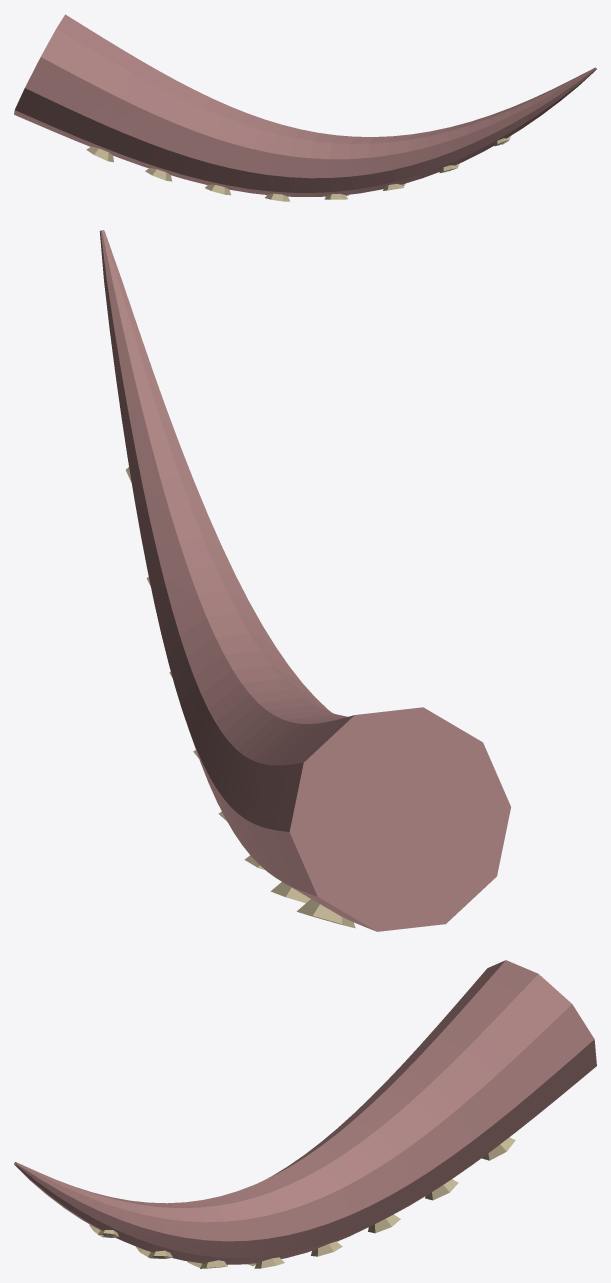
The model's file is kraken_arm_1_01.glb.
3 renders of one model, top to bottom at view 1: azimuth 30°, elevation 25°; view 2: azimuth 150°, elevation 25°; view 3: azimuth 270°, elevation 25°, orthographic. The views are drawn at different scales.
Parts seen in each view (by area): view 1: Arm1; view 2: Arm1; view 3: Arm1.
Part boxes in pixels (x1,y1,x2,y2): Arm1: [14, 14, 596, 196]; Arm1: [99, 230, 510, 931]; Arm1: [14, 960, 596, 1264].
Size of the model in its own units: 0.8998 by 0.366 by 0.8998.
